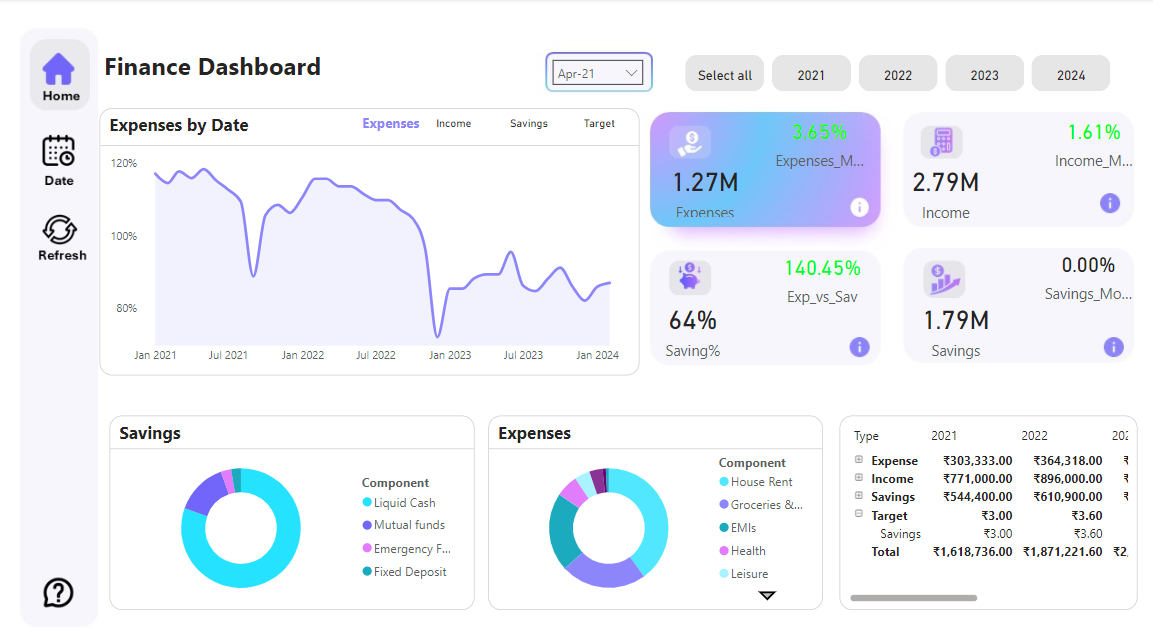

Layout of this report page (visuals, bound fields, positions):
{"tool":"powerbi","page":{"name":"Page 1","canvas":[1280,720],"ordinal":0},"visuals":[{"type":"card","fields":{"Values":["Dataset.Income"]},"box":[960.2,162.2,162.2,98.8],"z":0},{"type":"card","fields":{"Values":["Dataset.Expenses"]},"box":[719.2,176.3,116.7,69.8],"z":1000},{"type":"card","fields":{"Values":["Dataset.Savings"]},"box":[971.6,310.7,162.3,104],"z":2000},{"type":"card","fields":{"Values":["Dataset.Saving%"]},"box":[691.2,310.7,144.6,104],"z":3000},{"type":"advancedSlicerVisual","fields":{"Values":["Dataset.Year"]},"box":[750.8,57.5,479.4,50.1],"z":4000},{"type":"donutChart","title":"Savings","fields":{"Category":["Dataset.Component"],"Y":["Dataset.Savings"]},"box":[123.9,458.7,401.2,213.9],"z":5000},{"type":"donutChart","title":"Expenses","fields":{"Category":["Dataset.Component"],"Y":["Dataset.Expenses"]},"box":[539.8,458.7,367.3,213.9],"z":6000},{"type":"pivotTable","fields":{"Values":["Dataset.Total_Value"],"Rows":["Dataset.Type","Dataset.Component"],"Columns":["Dataset.Year"]},"box":[924.8,458.7,327.4,213.9],"z":7000},{"type":"areaChart","fields":{"Category":["Dataset.Date.Variation.Date Hierarchy.Year","Dataset.Date.Variation.Date Hierarchy.Quarter","Dataset.Date.Variation.Date Hierarchy.Month","Dataset.Date.Variation.Date Hierarchy.Day"],"Y":["Dataset.Line_Chart_Measures"]},"box":[112.1,120.9,592.9,293.5],"z":8000},{"type":"advancedSlicerVisual","fields":{"Values":["Line_Selection_Table.Type"]},"box":[390.9,120.9,328.9,36.9],"z":9000},{"type":"textbox","box":[112.1,50.1,508.9,57.5],"z":10000},{"type":"card","fields":{"Values":["Dataset.Income_Monthly_Growth"]},"box":[1154.9,120.9,97.3,73.7],"z":11000},{"type":"slicer","fields":{"Values":["Selected_Date.Month-Year"]},"box":[600.3,57.5,119.5,50.1],"z":12000},{"type":"card","fields":{"Values":["Dataset.Expenses_Monthly_Growth"]},"box":[849.6,119.5,107.7,75.2],"z":13000},{"type":"card","fields":{"Values":["Dataset.Savings_Monthly_Growth"]},"box":[1144.6,261.1,107.7,84.1],"z":14000},{"type":"card","fields":{"Values":["Dataset.Exp_vs_Sav"]},"box":[852.5,265.5,107.7,84.1],"z":15000},{"type":"actionButton","box":[24.1,138.2,87.5,73.6],"z":16000},{"type":"actionButton","box":[23.8,231.4,87.3,68.1],"z":17001}]}

Visuals, with their boxes on the page's 1280x720 design canvas (x1, y1, x2, y2). These are canvas units, not pixel positions in the 1153x640 screenshot, which may show the page scaled, cropped or inside an application window:
card - Dataset.Income: 960/162/1122/261
card - Dataset.Expenses: 719/176/836/246
card - Dataset.Savings: 972/311/1134/415
card - Dataset.Saving%: 691/311/836/415
advancedSlicerVisual - Dataset.Year: 751/58/1230/108
"Savings" donutChart: 124/459/525/673
"Expenses" donutChart: 540/459/907/673
pivotTable - Dataset.Total_Value x Dataset.Type: 925/459/1252/673
areaChart - Dataset.Date.Variation.Date Hierarchy.Year x Dataset.Date.Variation.Date Hierarchy.Quarter: 112/121/705/414
advancedSlicerVisual - Line_Selection_Table.Type: 391/121/720/158
textbox: 112/50/621/108
card - Dataset.Income_Monthly_Growth: 1155/121/1252/195
slicer - Selected_Date.Month-Year: 600/58/720/108
card - Dataset.Expenses_Monthly_Growth: 850/120/957/195
card - Dataset.Savings_Monthly_Growth: 1145/261/1252/345
card - Dataset.Exp_vs_Sav: 852/266/960/350
actionButton: 24/138/112/212
actionButton: 24/231/111/300
